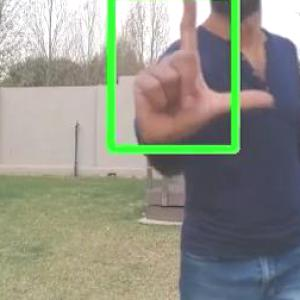land_hand: (127, 0, 275, 147)
